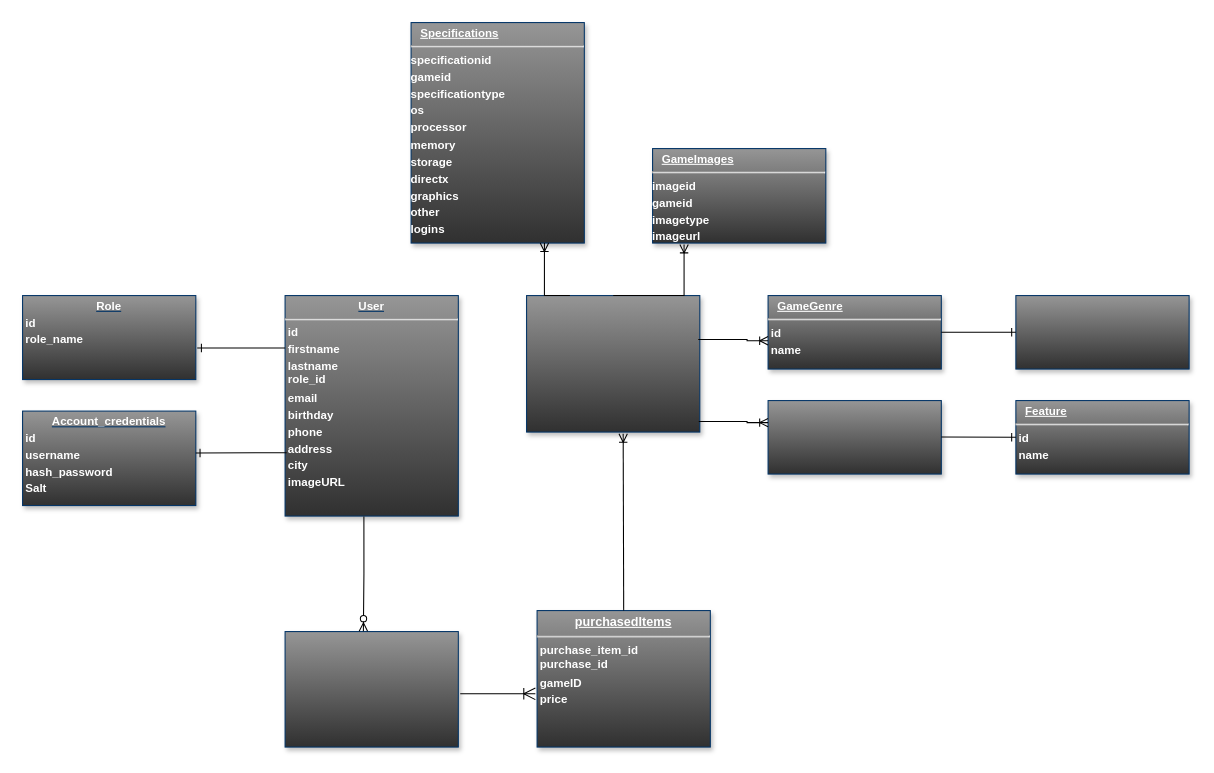
The diagram is 1214 pixels wide and 773 high, and some of its shapes have lost their labels. The centre of each missing label's shape, as x and y in pixels:
Game id name price description requirements imageUrl: [613,364]
GameFeature id name: [855,438]
Genre id name: [1103,333]
purchased purchase_id userId user_Username orderDate TotalPrice: [372,690]
